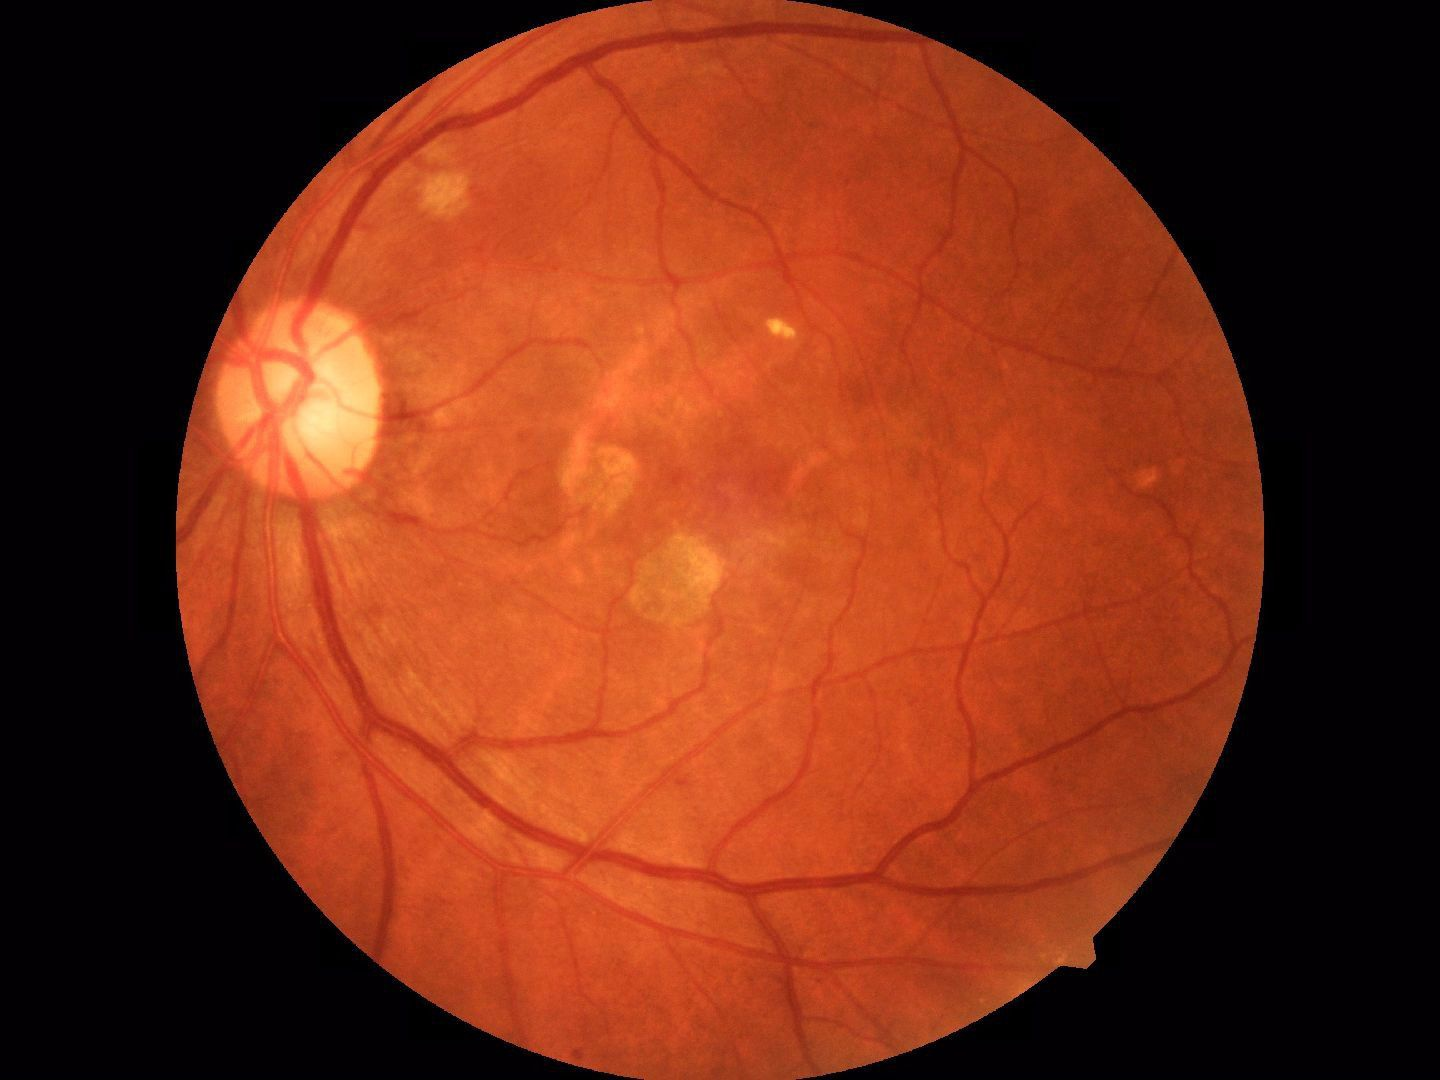Arterioles: (808, 615, 1059, 980)
Optic-Disc: (219, 287, 376, 496)
Venules: (316, 579, 600, 874), (323, 133, 376, 280)
